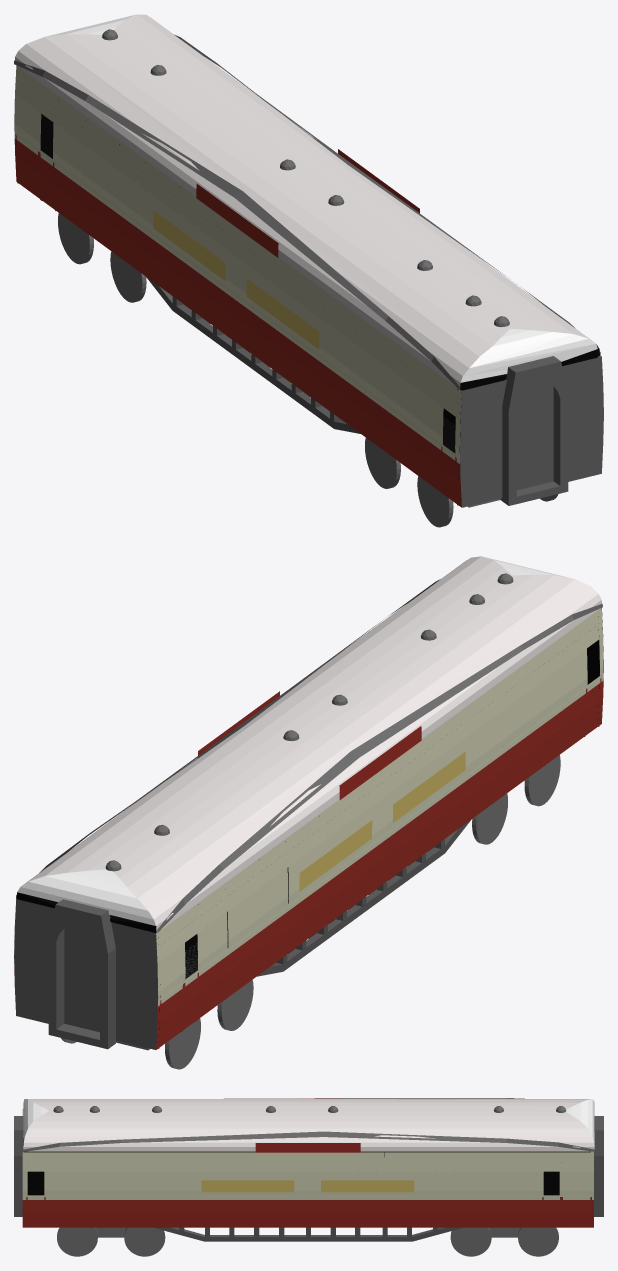
Rendered from lner-gresley-express-mail-cc.dae.
3 views of the same model, one above another, from view 1: azimuth 30°, elevation 25°; view 2: azimuth 150°, elevation 25°; view 3: azimuth 270°, elevation 25° (orthographic). The views are drawn at different scales.
Parts seen in each view (by area): view 1: Suzanne_001, Plane_358, Plane_070, Tube_002, Plane_017, Plane_326, Suzanne_004, Plane_359, Plane_357, Plane_332, Plane_276, Plane_384 (+14 smaller); view 2: Suzanne_001, Plane_358, Plane_001, Tube_004, Plane_017, Plane_326, Suzanne_004, Plane_359, Plane_357, Plane_332, Plane_276, Plane_383 (+13 smaller); view 3: Suzanne_001, Plane_007, Plane_361, Plane, Plane_006, Suzanne_003, Plane_242, Plane_005, Plane_158, Plane_019, Plane_382, Plane_381 (+28 smaller).
Boxes of the visible parts, x1,y1,x2,y2 form: Suzanne_001: (15, 14, 599, 389); Plane_358: (14, 138, 461, 507); Plane_070: (460, 356, 603, 507); Tube_002: (500, 356, 568, 505); Plane_017: (16, 80, 434, 400); Plane_326: (176, 213, 429, 434); Suzanne_004: (14, 60, 459, 389); Plane_359: (15, 72, 461, 404); Plane_357: (14, 131, 459, 463); Plane_332: (179, 185, 441, 382); Plane_276: (85, 131, 116, 203); Plane_384: (246, 278, 319, 349); Suzanne_001: (16, 556, 601, 933); Plane_358: (156, 681, 603, 1049); Plane_001: (14, 899, 158, 1049); Tube_004: (48, 899, 115, 1049); Plane_017: (158, 641, 576, 961); Plane_326: (321, 659, 573, 879); Suzanne_004: (157, 603, 602, 932); Plane_359: (156, 614, 602, 947); Plane_357: (157, 673, 603, 1006); Plane_332: (319, 622, 581, 820); Plane_276: (227, 874, 258, 945); Plane_383: (299, 820, 372, 891); Suzanne_001: (23, 1099, 594, 1151); Plane_007: (22, 1200, 593, 1227); Plane_361: (64, 1171, 328, 1195); Plane: (64, 1162, 472, 1171); Plane_006: (22, 1157, 593, 1161); Suzanne_003: (23, 1131, 594, 1151); Plane_242: (466, 1162, 541, 1195); Plane_005: (22, 1195, 593, 1199); Plane_158: (50, 1152, 383, 1157); Plane_019: (24, 1151, 590, 1195); Plane_382: (321, 1180, 414, 1192); Plane_381: (201, 1180, 294, 1192).
Bounding box in the file's own units: 2.09 × 11.39 × 2.82.
